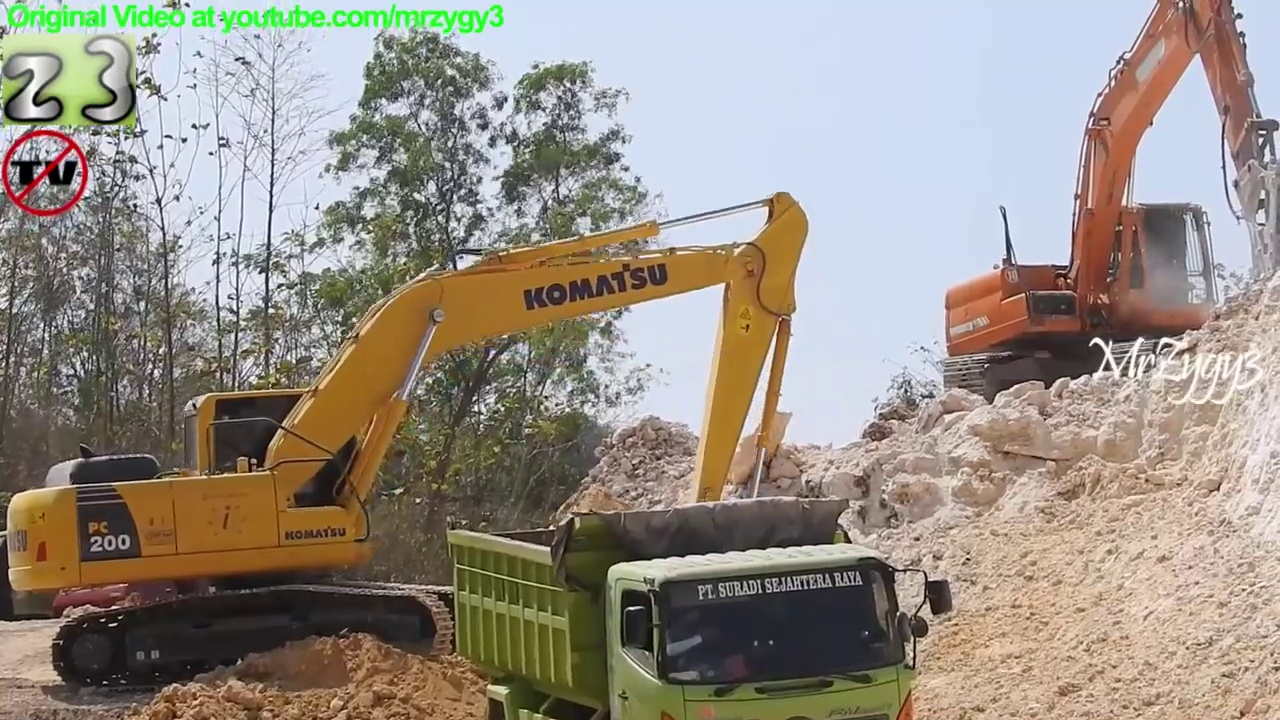excavator: (6, 189, 812, 699), (933, 1, 1280, 415)
truck: (444, 489, 958, 720)
